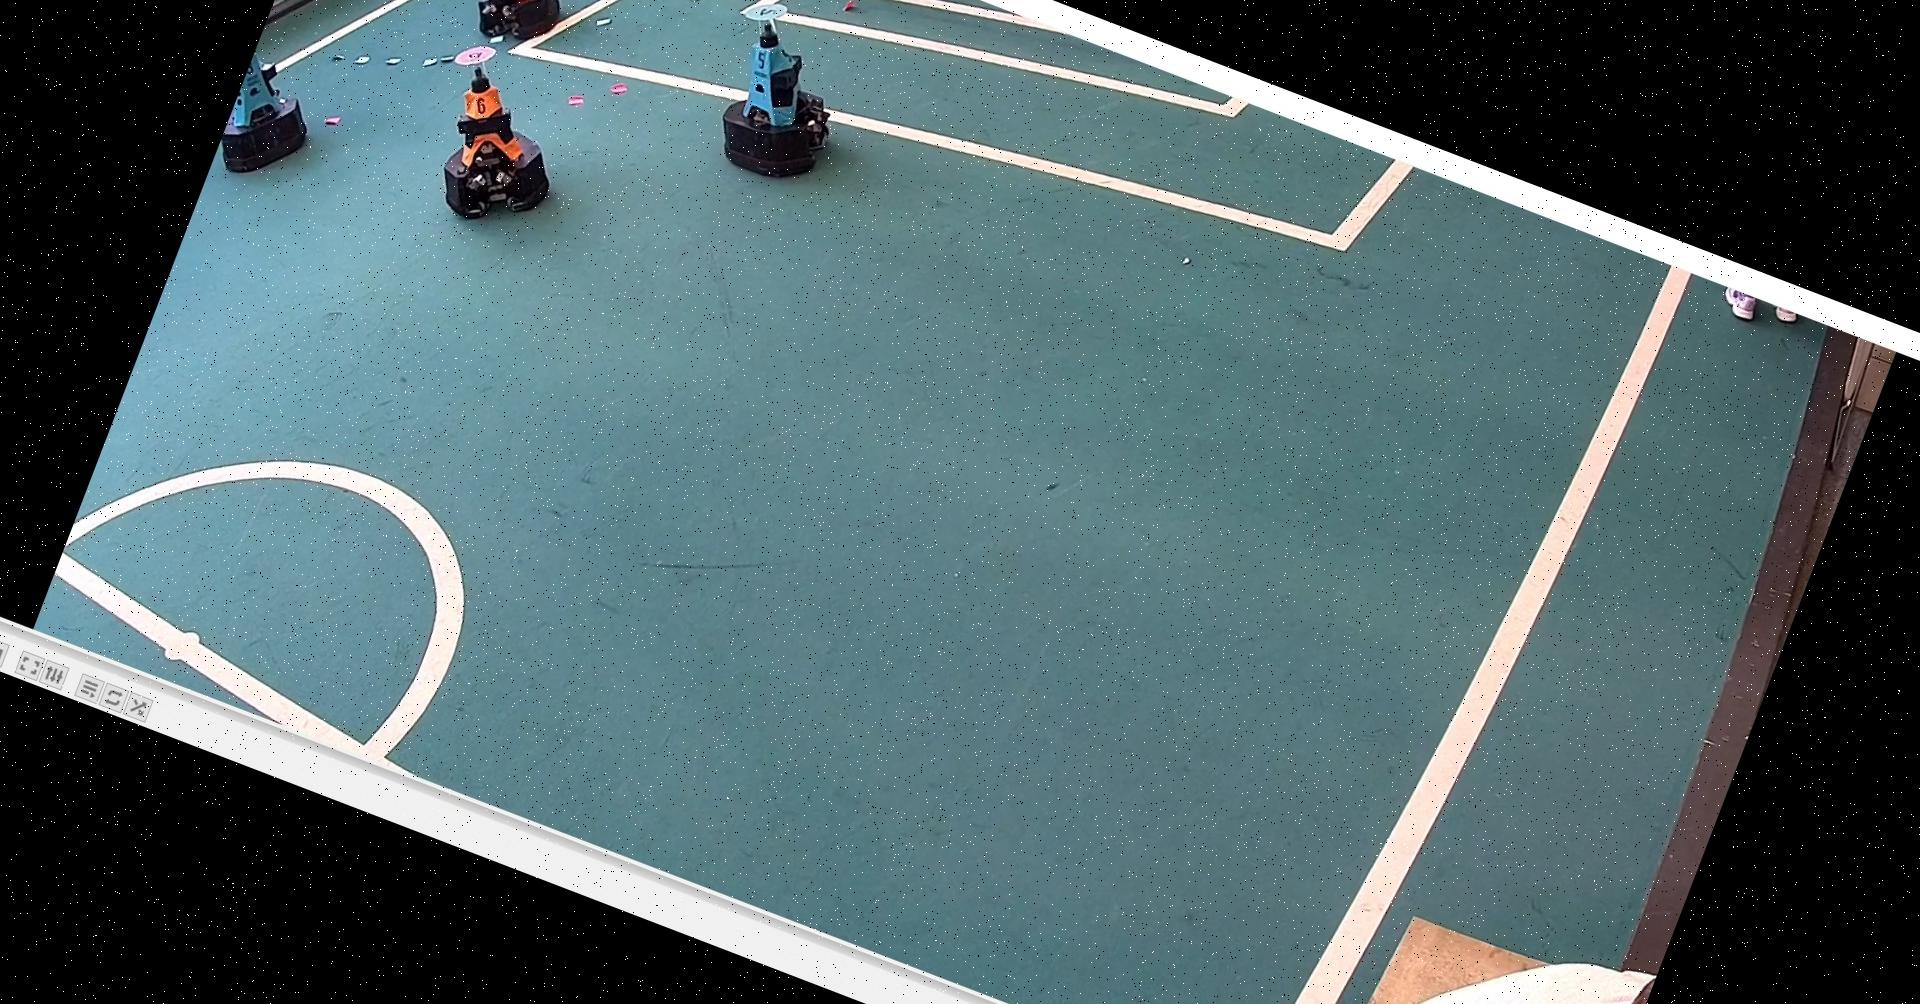Team_Blue: (690, 0, 883, 201), (212, 34, 350, 195)
Team_Red: (399, 29, 593, 241), (444, 0, 603, 69)
